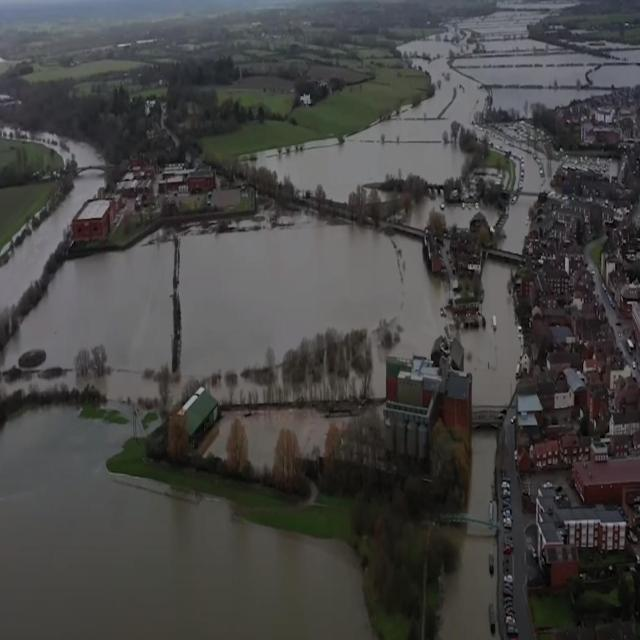flood: (0, 407, 373, 639), (179, 214, 447, 383), (257, 35, 487, 200), (0, 235, 173, 398), (451, 1, 640, 117), (0, 170, 103, 309), (0, 169, 103, 308), (461, 260, 520, 405), (259, 142, 420, 192), (438, 524, 497, 640), (469, 429, 498, 521), (499, 195, 537, 252), (512, 143, 549, 191), (505, 195, 537, 249), (404, 196, 441, 227), (66, 137, 103, 166), (444, 203, 479, 227), (481, 204, 501, 225)
house: (531, 490, 629, 586), (165, 385, 218, 464), (570, 453, 640, 511), (387, 352, 441, 416), (514, 378, 544, 462), (72, 196, 116, 244), (443, 370, 472, 435), (541, 264, 570, 296), (609, 412, 640, 438), (187, 166, 217, 192), (556, 382, 574, 409)
